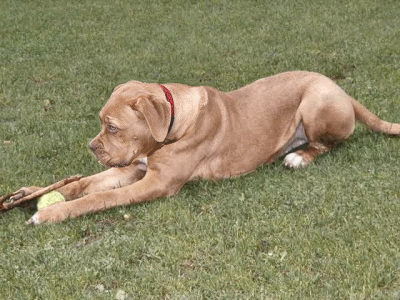dogue_de_bordeaux: (10, 30, 400, 225)
